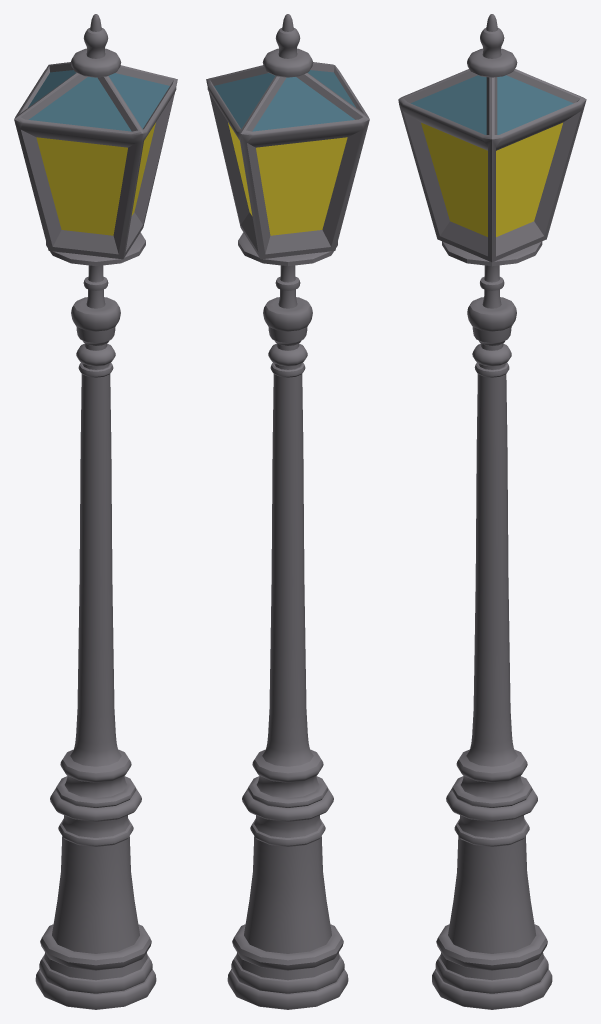
Rendered from StreetLight.glb.
The picture shows the model from 3 angles, left to right: view 1: azimuth 30°, elevation 25°; view 2: azimuth 150°, elevation 25°; view 3: azimuth 270°, elevation 25°; orthographic projection.
Visible parts, largest first — view 1: Cube, Cube.002, Cube.003; view 2: Cube, Cube.002, Cube.003; view 3: Cube, Cube.002, Cube.003.
Boxes of the visible parts, x1=… form: Cube: x1=35, y1=232, x2=156, y2=1009; Cube.002: x1=14, y1=62, x2=177, y2=259; Cube.003: x1=70, y1=14, x2=121, y2=77; Cube: x1=227, y1=232, x2=348, y2=1009; Cube.002: x1=206, y1=62, x2=369, y2=259; Cube.003: x1=262, y1=14, x2=313, y2=77; Cube: x1=432, y1=241, x2=552, y2=1009; Cube.002: x1=398, y1=69, x2=586, y2=262; Cube.003: x1=467, y1=14, x2=517, y2=77.
Size of the model in its own units: 0.7827 by 4.45 by 0.7795.
